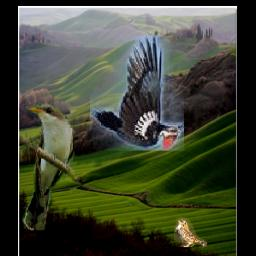Cuckoo: (23, 104, 75, 231)
Sparrow: (175, 218, 208, 247)
Woodpecker: (90, 36, 184, 152)
